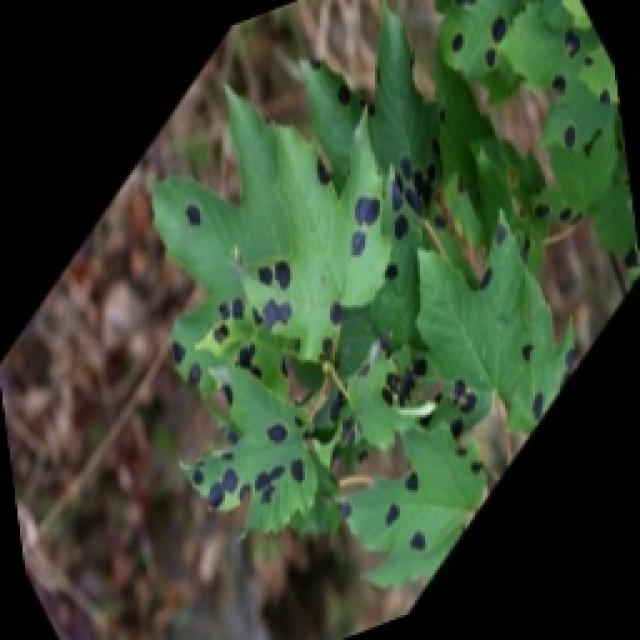Tar_Spot: (192, 416, 359, 517), (206, 256, 342, 372), (338, 169, 443, 306)
